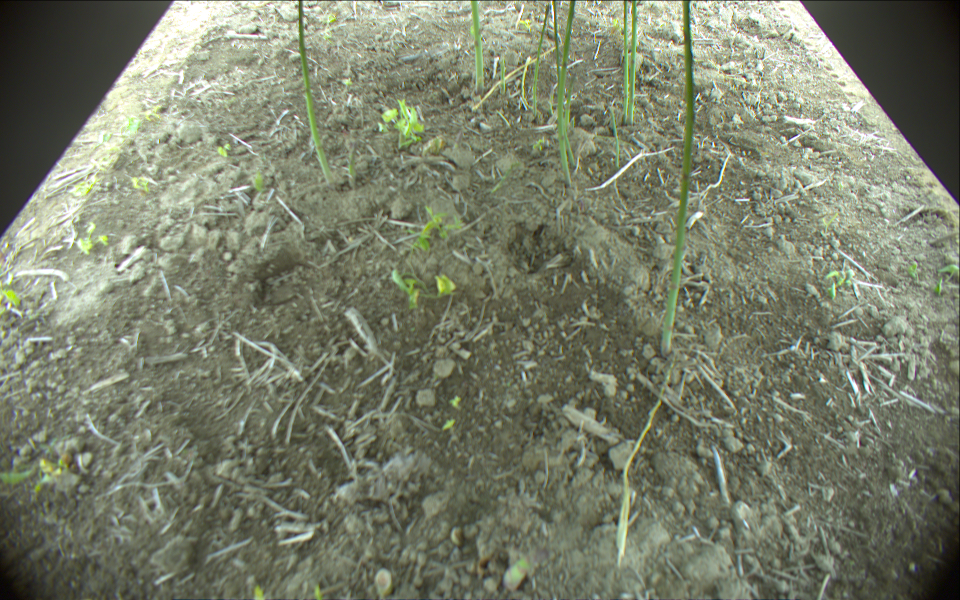aspa: (658, 1, 698, 358), (296, 1, 335, 184), (551, 1, 575, 166), (555, 1, 576, 185), (532, 4, 549, 116), (468, 1, 486, 93), (627, 1, 640, 123), (618, 1, 629, 119), (606, 103, 621, 169), (564, 72, 582, 124), (344, 147, 358, 186), (499, 55, 507, 94)
